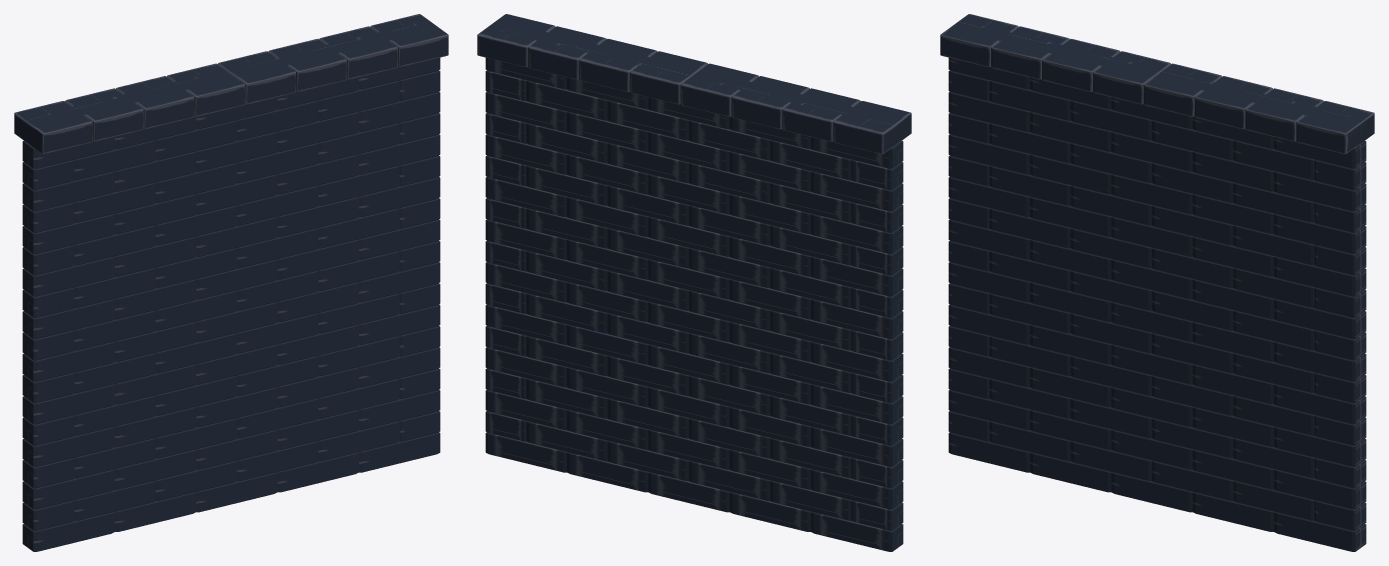
File: StoneWall.fbx
3 renders of one model, left to right at view 1: azimuth 30°, elevation 25°; view 2: azimuth 150°, elevation 25°; view 3: azimuth 330°, elevation 25°, orthographic.
Parts seen in each view (by area): view 1: Wall1; view 2: Wall1; view 3: Wall1.
Part boxes in pixels (x1,y1,x2,y2): Wall1: (14,14,448,551); Wall1: (477,14,911,551); Wall1: (940,14,1374,551).
Size of the model in its own units: 1000 by 1000 by 125.
